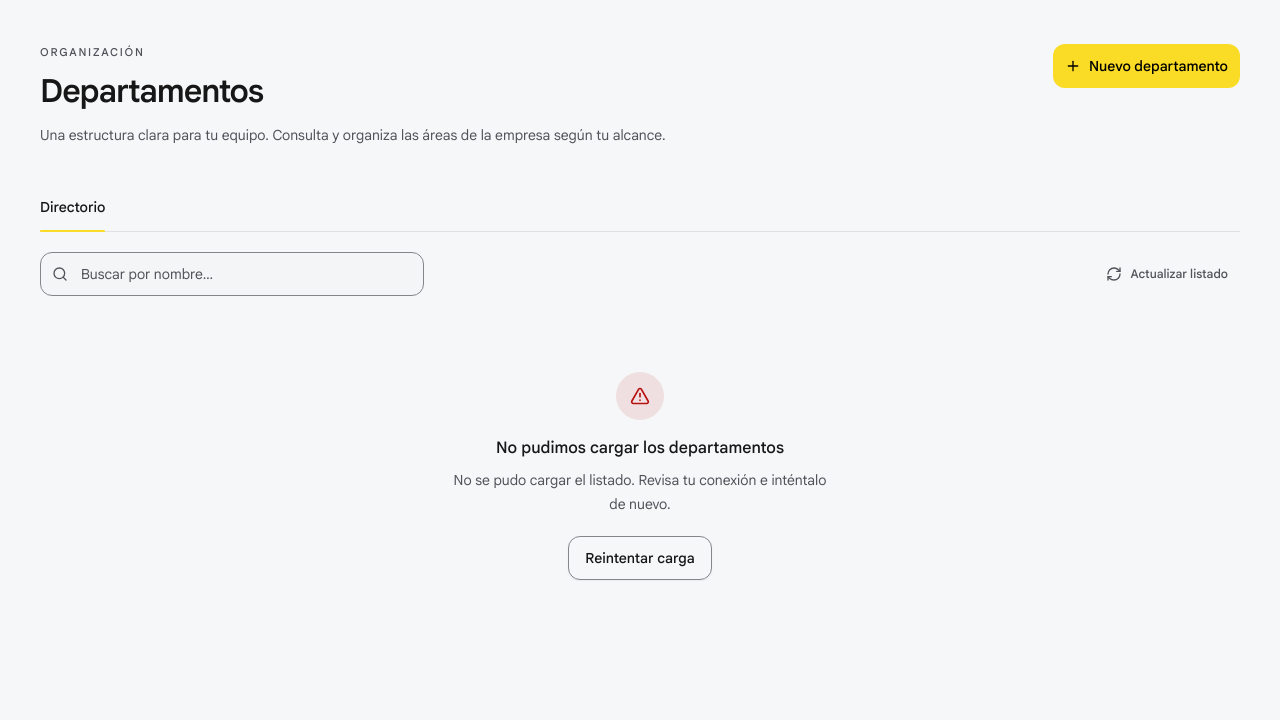
pantalla de Departamentos › permite recuperar un fallo de consulta
Expected: the message shows "No se pudo cargar el listado", [454,470,826,512]
Click the button "Reintentar carga" at {"x": 640, "y": 558}, box [568,536,712,580]
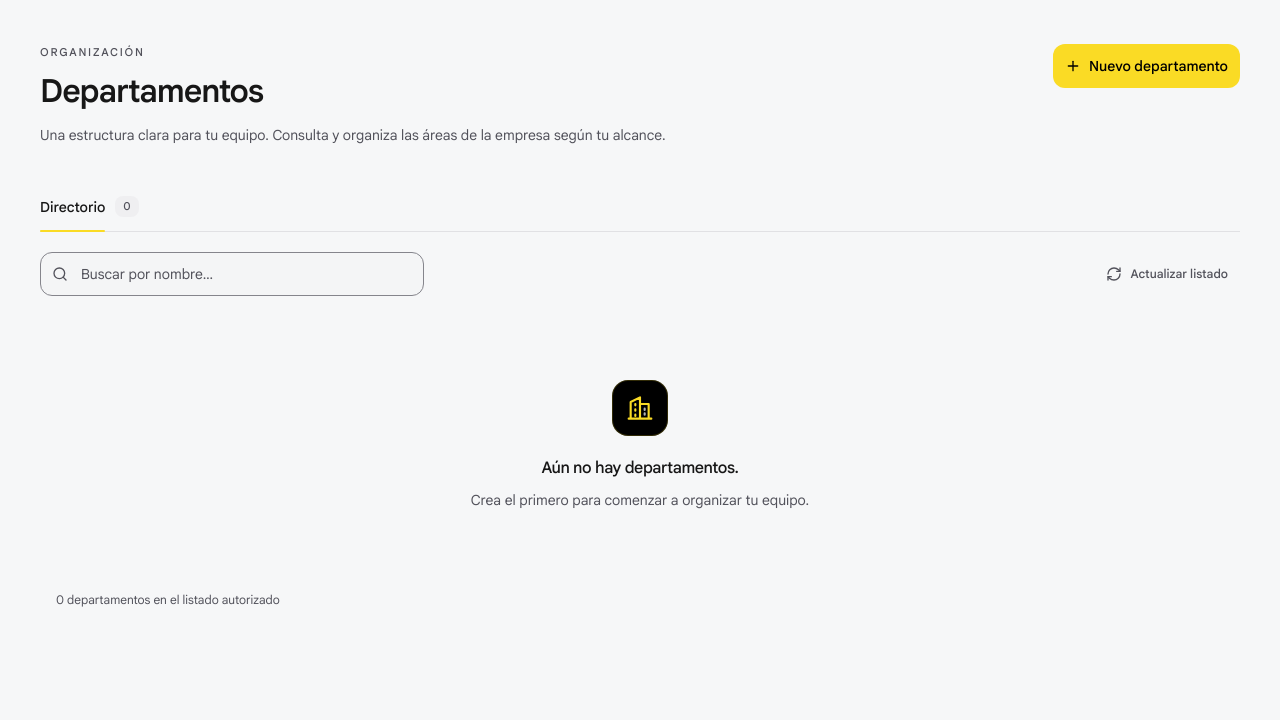
Expected: the heading "Aún no hay departamentos." is shown, [542,456,739,480]
